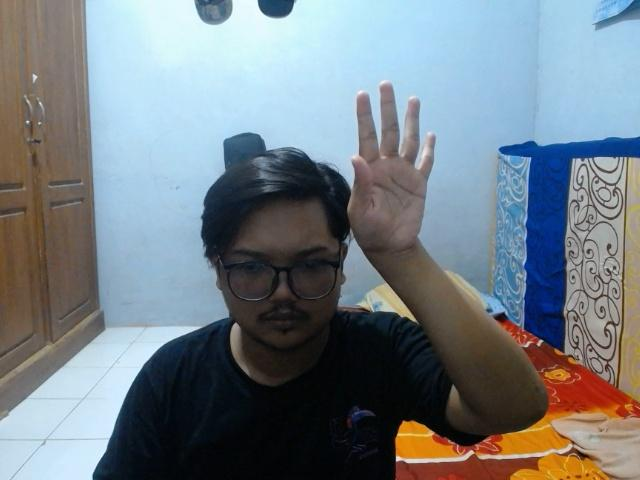Release: (343, 73, 443, 262)
